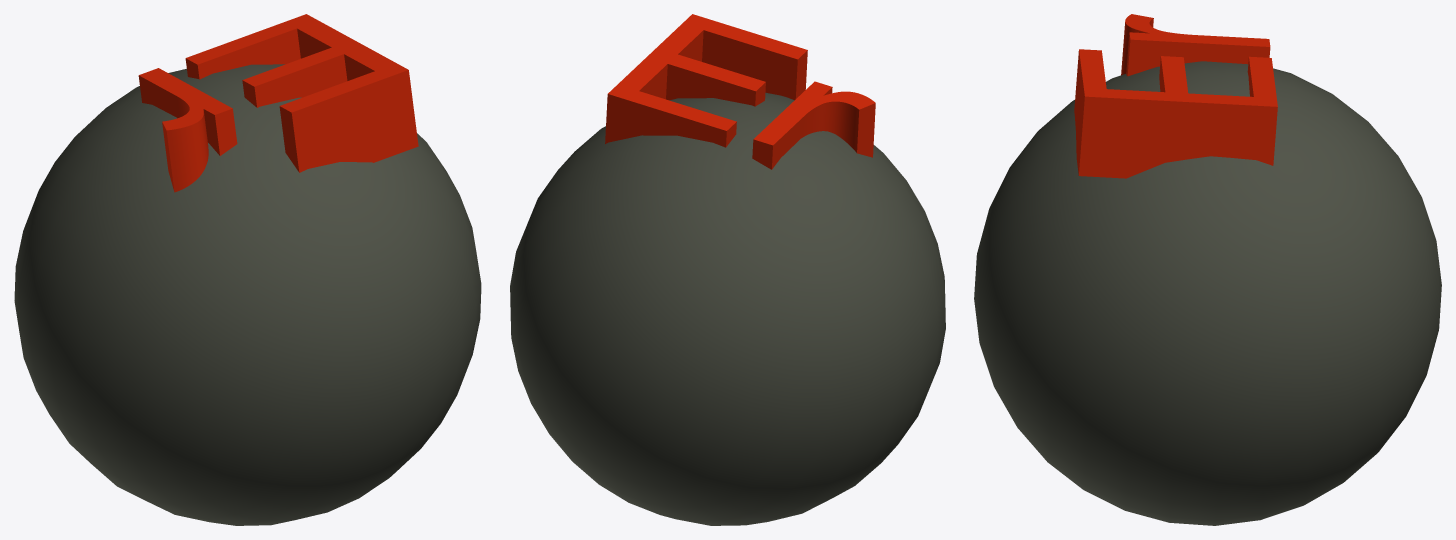
3 views of the same model, side by side, from view 1: azimuth 30°, elevation 25°; view 2: azimuth 150°, elevation 25°; view 3: azimuth 270°, elevation 25° (orthographic). The views are drawn at different scales.
Parts seen in each view (by area): view 1: Er; view 2: Er; view 3: Er.
Part boxes in pixels (x1,y1,x2,y2): Er: [14, 14, 481, 525]; Er: [510, 14, 945, 525]; Er: [974, 14, 1441, 525].
Size of the model in its own units: 38.63 by 41.6 by 38.71.
